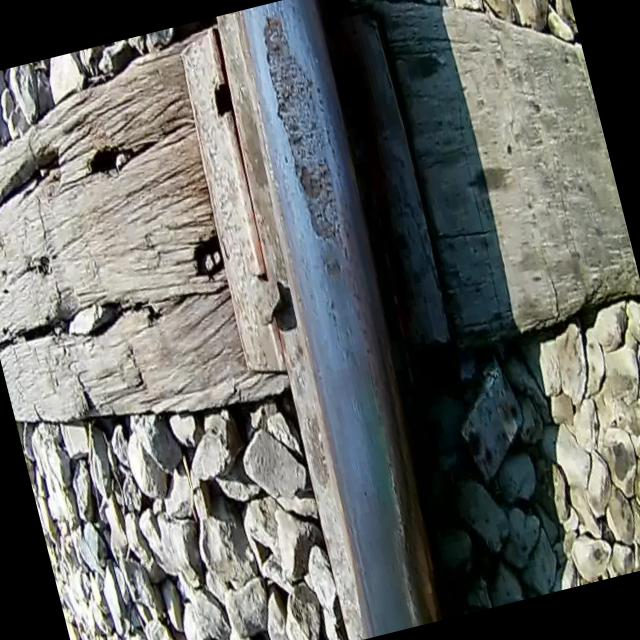Squats: (249, 0, 362, 275)
